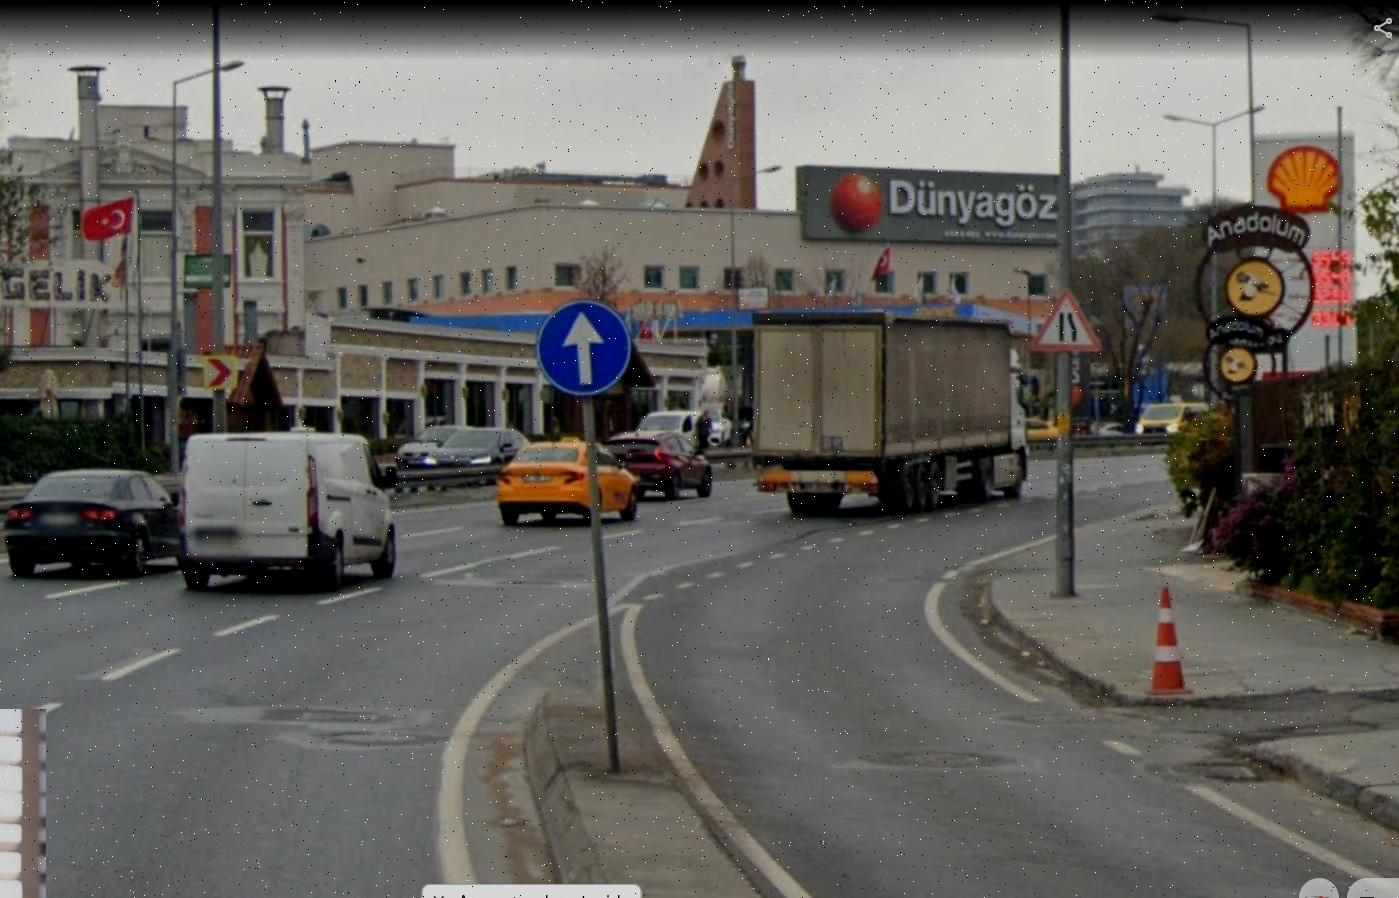forward: (547, 305, 628, 397)
